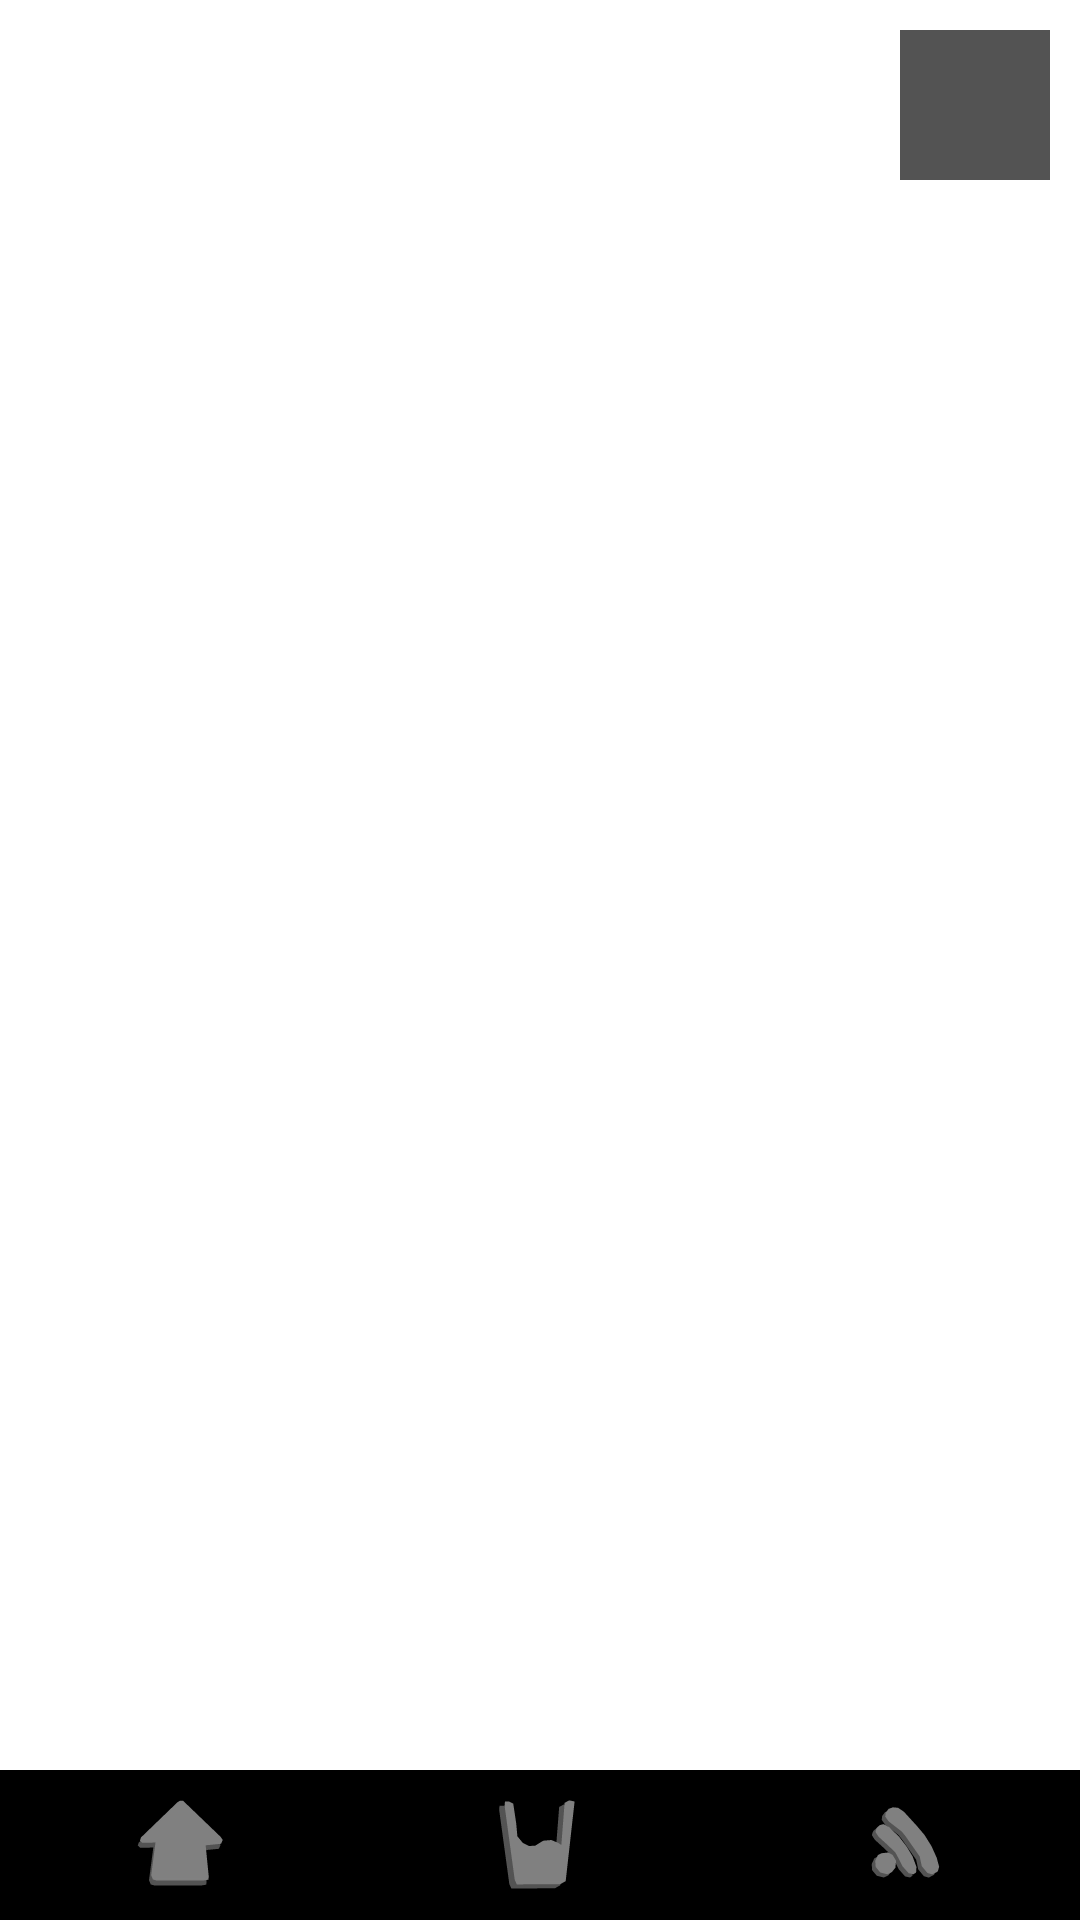

Where icons sit on this 1080px x 1920px app screen, as (x1, y1, x2, y2):
watervector: (499, 1800, 575, 1889)
